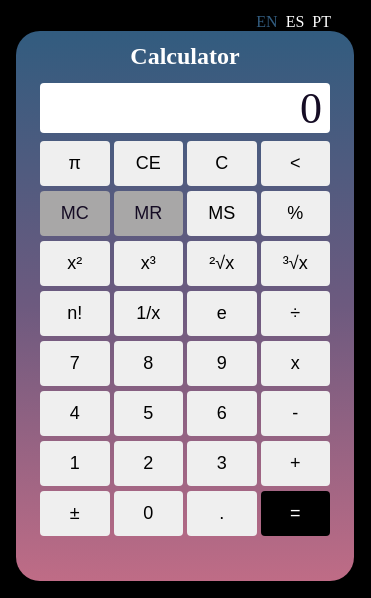
CalculatorContainer › handles memory buttons
Step 1. Click the button with class "calculator-content-line-normal-button" showing "5" → (148, 414), box top-left (114, 391), bottom-right (183, 436)
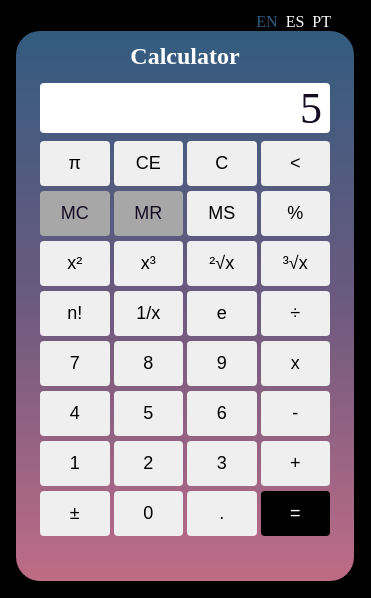
Step 2. Click the button with class "calculator-content-line-normal-button" showing "MS" → (222, 214), box top-left (187, 191), bottom-right (256, 236)
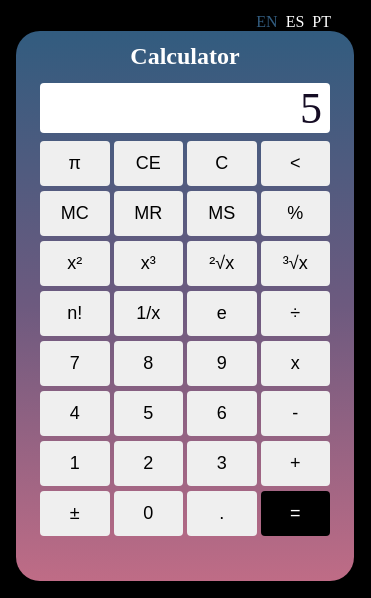
Step 3. Click the button with class "calculator-content-line-normal-button" showing "C" → (222, 164), box top-left (187, 141), bottom-right (256, 186)
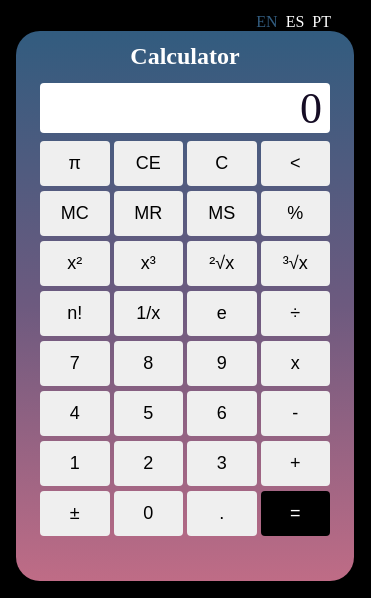
Step 4. Click the button with class "calculator-content-line-normal-button" showing "MR" → (148, 214), box top-left (114, 191), bottom-right (183, 236)
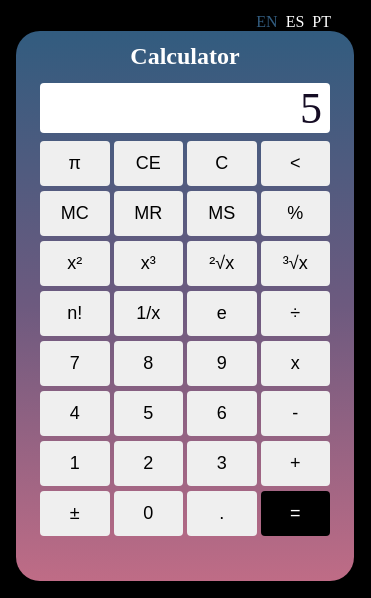
Expected: the message with class "calculator-content-header-result-text" reads "5", top-left (300, 84), bottom-right (322, 132)
Step 5. Click the button with class "calculator-content-line-normal-button" showing "MC" → (75, 214), box top-left (40, 191), bottom-right (110, 236)
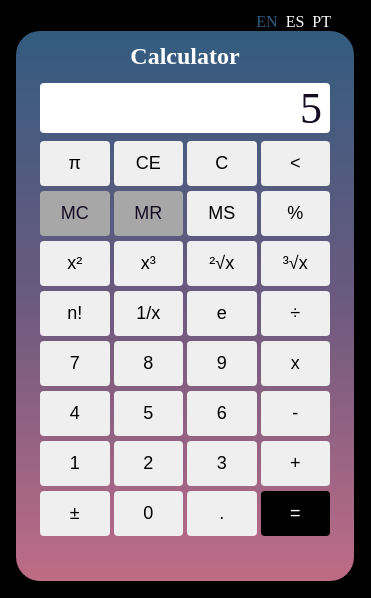
Expected: the button with class "calculator-content-line-normal-button" showing "MC" is disabled, top-left (40, 191), bottom-right (110, 236)
Expected: the button with class "calculator-content-line-normal-button" showing "MR" is disabled, top-left (114, 191), bottom-right (183, 236)
